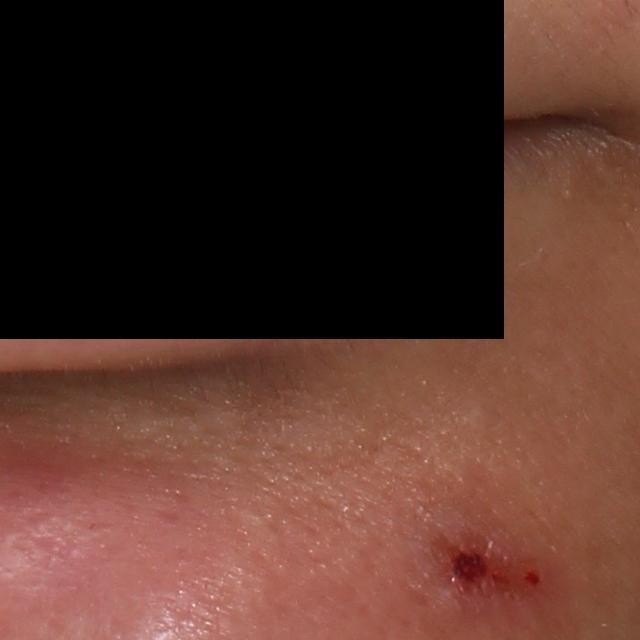papule: (424, 515, 537, 616)
